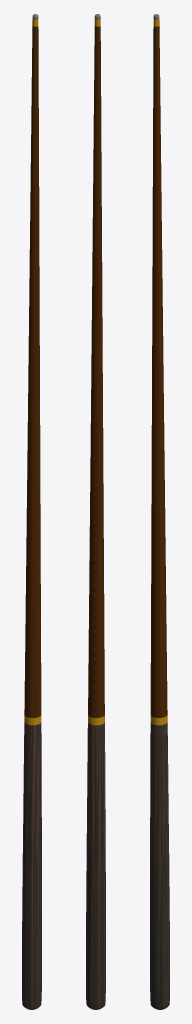
File: stick.fbx
3 renders of one model, left to right at view 1: azimuth 90°, elevation 25°; view 2: azimuth 150°, elevation 25°; view 3: azimuth 270°, elevation 25°, orthographic.
Parts seen in each view (by area): view 1: polySurface64_pool_stick_top_wood_text_0, polySurface61_pool_stick_wood_2_text_0, polySurface62_copper_text_0; view 2: polySurface64_pool_stick_top_wood_text_0, polySurface61_pool_stick_wood_2_text_0, polySurface62_copper_text_0; view 3: polySurface64_pool_stick_top_wood_text_0, polySurface61_pool_stick_wood_2_text_0, polySurface62_copper_text_0.
Boxes of the visible parts, box(x1,y1,x2,y2) form: polySurface64_pool_stick_top_wood_text_0: box(24, 26, 41, 717); polySurface61_pool_stick_wood_2_text_0: box(22, 722, 41, 1009); polySurface62_copper_text_0: box(24, 715, 41, 725); polySurface64_pool_stick_top_wood_text_0: box(88, 26, 104, 717); polySurface61_pool_stick_wood_2_text_0: box(86, 722, 105, 1009); polySurface62_copper_text_0: box(88, 715, 104, 725); polySurface64_pool_stick_top_wood_text_0: box(150, 26, 167, 717); polySurface61_pool_stick_wood_2_text_0: box(150, 722, 169, 1009); polySurface62_copper_text_0: box(150, 715, 167, 725).
Bounding box in the file's own units: 244 × 13192 × 244.
